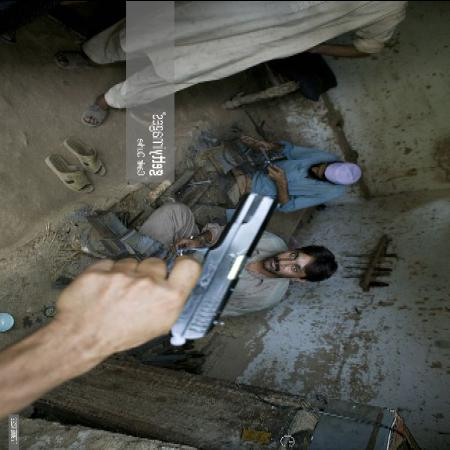Pistol: (71, 190, 276, 344)
